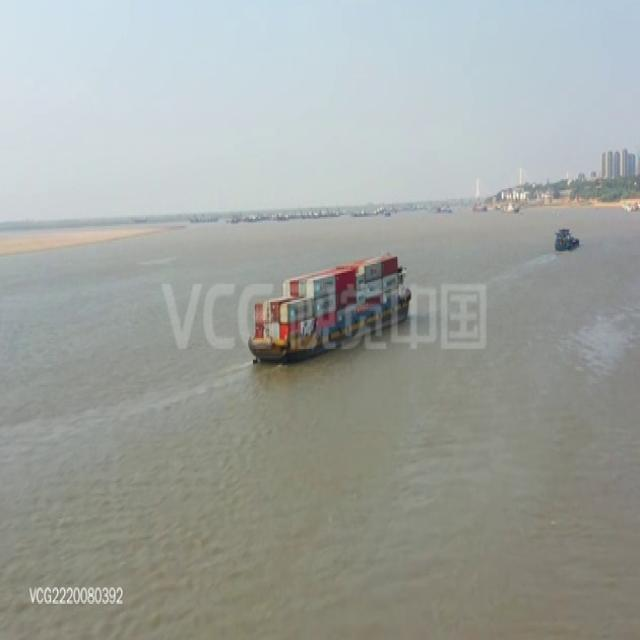cargoship: (240, 246, 418, 363)
fishing boat: (552, 226, 580, 253)
